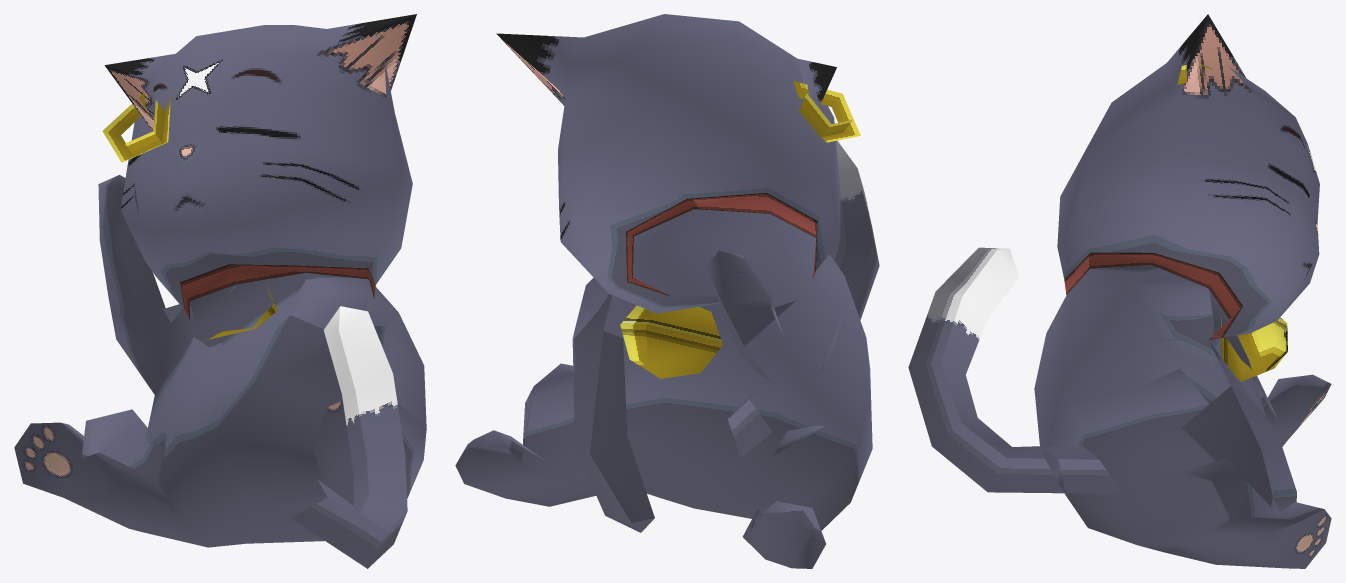
The model's file is ps2_save-icons_maiotomehimeotomebutoushi.glb.
3 renders of one model, left to right at view 1: azimuth 30°, elevation 25°; view 2: azimuth 150°, elevation 25°; view 3: azimuth 270°, elevation 25°, orthographic. The views are drawn at different scales.
Parts seen in each view (by area): view 1: icon00.ico; view 2: icon00.ico; view 3: icon00.ico.
Part boxes in pixels (bbox=[...]): icon00.ico: bbox=[14, 14, 426, 568]; icon00.ico: bbox=[455, 14, 879, 568]; icon00.ico: bbox=[908, 14, 1331, 568].
Size of the model in its own units: 3.2 by 4.08 by 3.6.
1 material, 1 textured.
